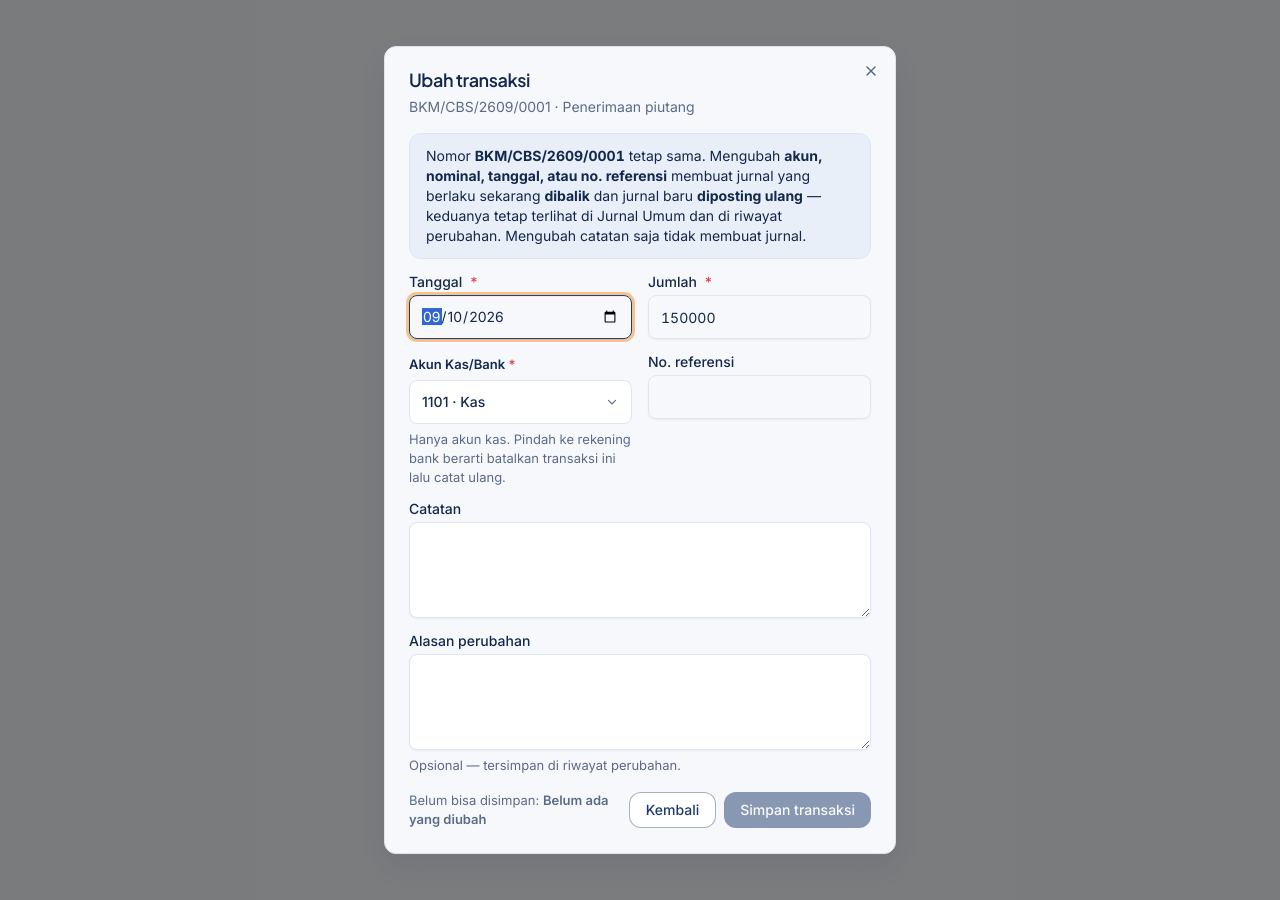
CashTransactionEditDialog — the same-class cash side › offers only kas accounts for a kas transaction
The width and height of the screenshot is (1280, 900).
Click the button with aria-label "Akun Kas/Bank".
click(520, 402)  # box [409,380,632,424]
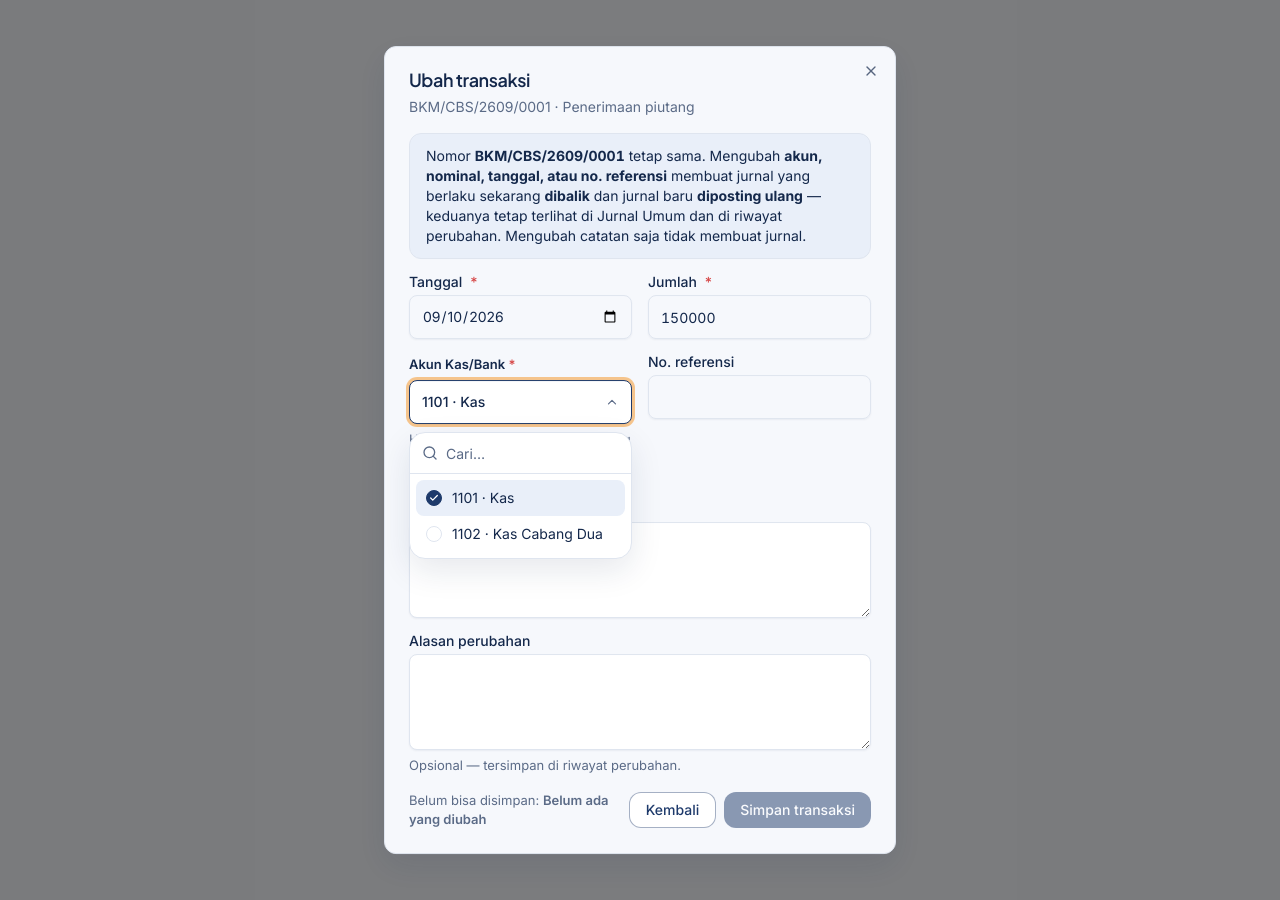
Expected: the text "Hanya akun kas" is shown, [409,431,631,485]
Expected: the option "1102 · Kas Cabang Dua" is shown, [426,525,603,542]
Expected: the option "1101 · Kas" is shown, [416,480,625,516]
